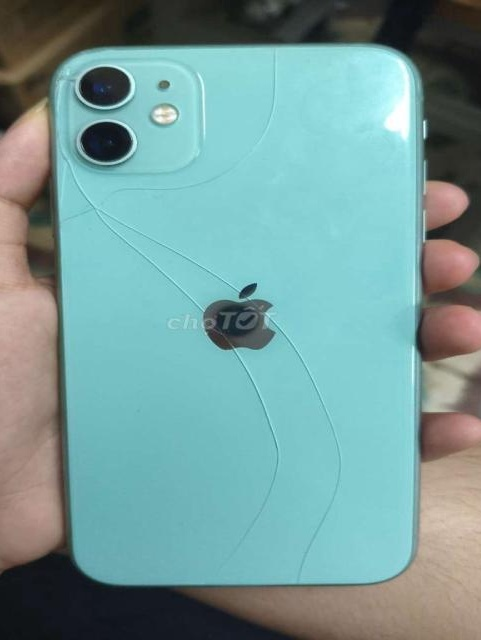physical_damage: (54, 54, 362, 584)
